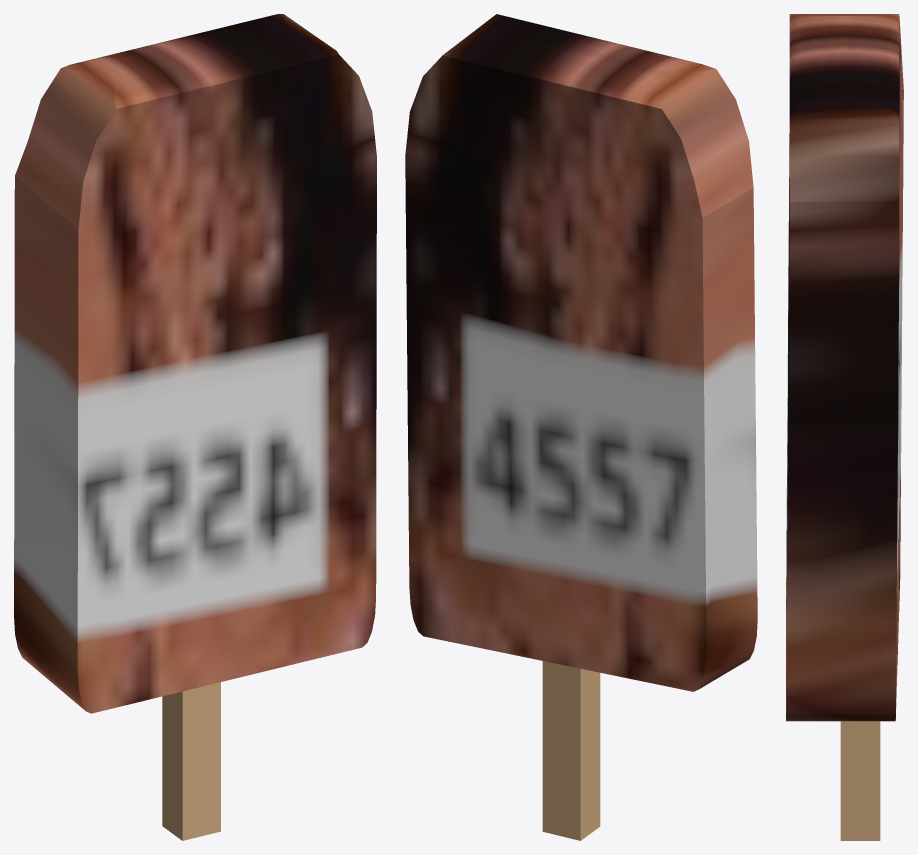
Rendered from IceCream_reward.fbx.
3 renders of one model, left to right at view 1: azimuth 30°, elevation 25°; view 2: azimuth 150°, elevation 25°; view 3: azimuth 270°, elevation 25°, orthographic.
Visible parts, largest first — view 1: Cube; view 2: Cube; view 3: Cube.
Part boxes in pixels (left/top/right/bottom): Cube: left=14, top=14, right=376, bottom=840; Cube: left=405, top=14, right=757, bottom=840; Cube: left=786, top=14, right=903, bottom=840.
Bounding box in the file's own units: 8.24 × 20.09 × 2.77.
2 materials, 1 textured.
